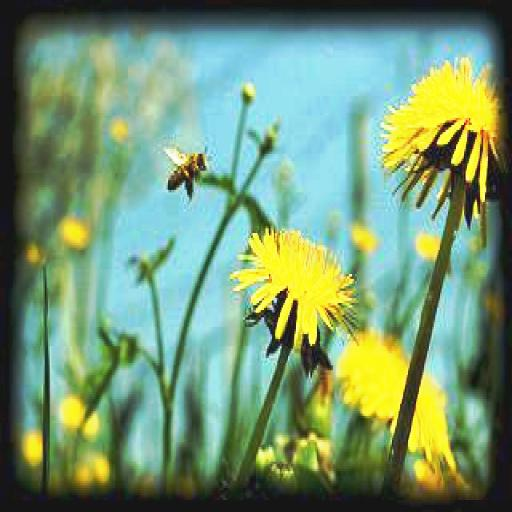dandelion: (377, 55, 512, 216), (232, 228, 357, 346)
